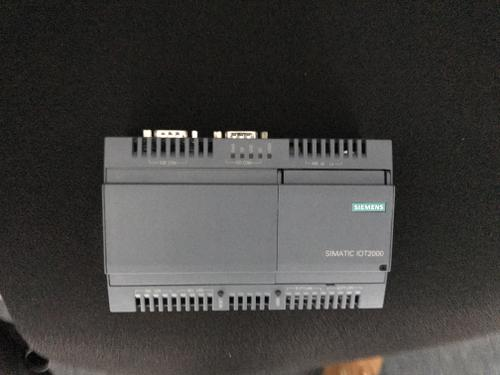device: (103, 130, 396, 312)
